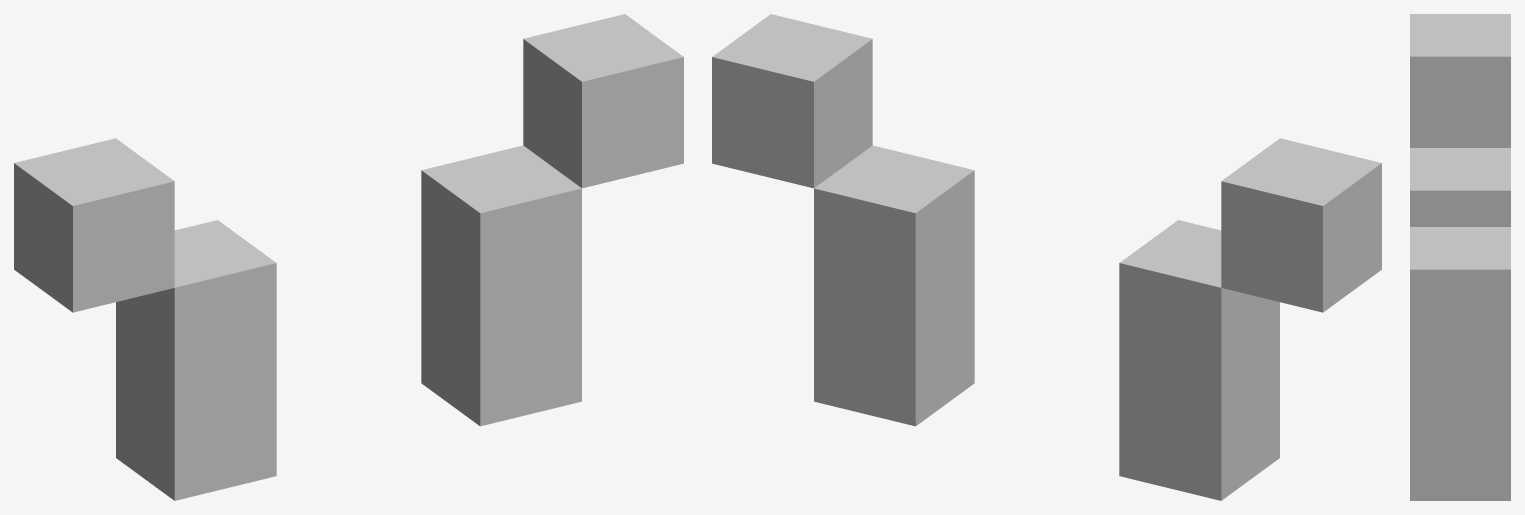
The picture shows the model from 3 angles, left to right: view 1: azimuth 30°, elevation 25°; view 2: azimuth 150°, elevation 25°; view 3: azimuth 270°, elevation 25°; orthographic projection. The views are drawn at different scales.
Parts seen in each view (by area): view 1: 31.1; view 2: 31.1; view 3: 31.1.
Part boxes in pixels (x1,y1,x2,y2): 31.1: (14, 14, 683, 500); 31.1: (712, 14, 1381, 500); 31.1: (1410, 14, 1510, 500).
Size of the model in its own units: 60 by 30 by 10.
Materials: 1 (1 with a texture image).
